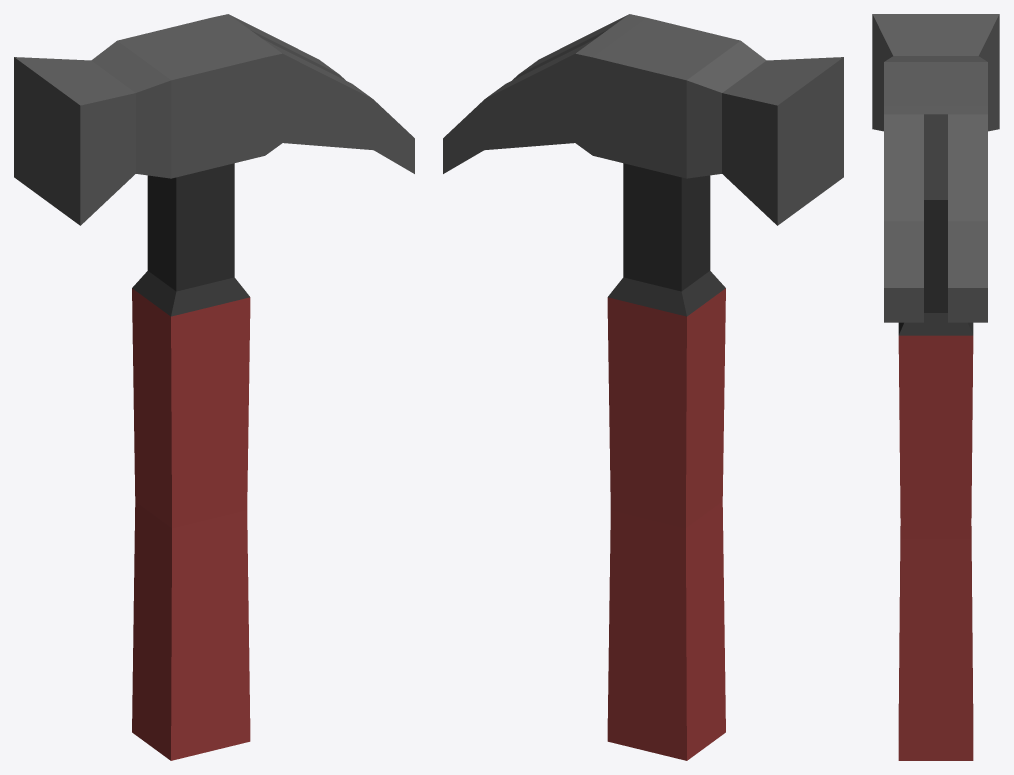
File: Hammer2.fbx
3 views of the same model, side by side, from view 1: azimuth 30°, elevation 25°; view 2: azimuth 150°, elevation 25°; view 3: azimuth 270°, elevation 25° (orthographic). The views are drawn at different scales.
Visible parts, largest first — view 1: Hammer2; view 2: Hammer2; view 3: Hammer2.
Boxes of the visible parts, x1,y1,x2,y2 form: Hammer2: (14,14,414,760); Hammer2: (443,14,843,760); Hammer2: (872,14,999,760).
Size of the model in its own units: 0.2023 by 0.3921 by 0.0683.
